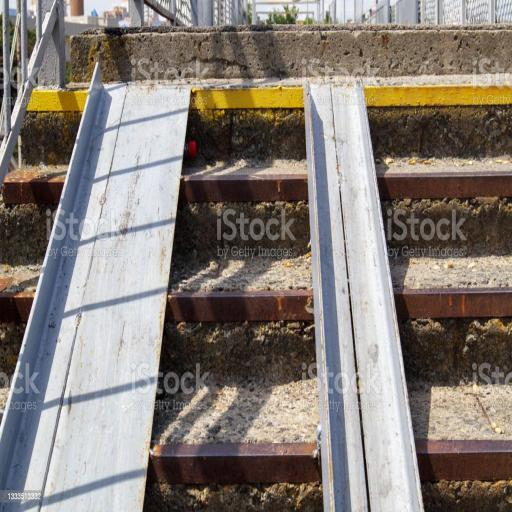ramp: (0, 76, 427, 512)
stairs: (149, 91, 325, 512), (362, 83, 512, 512)
